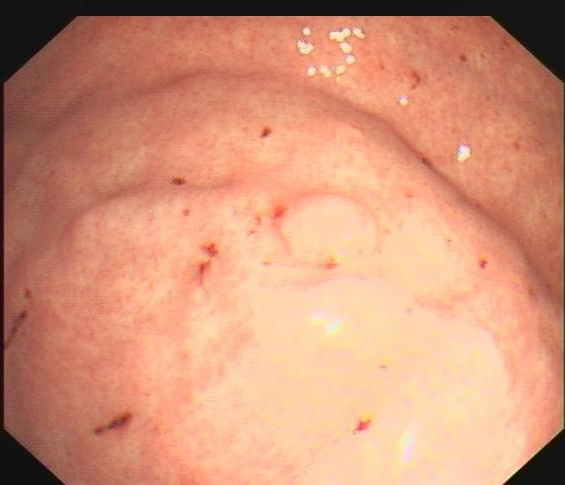Polyp: (273, 187, 386, 271)
